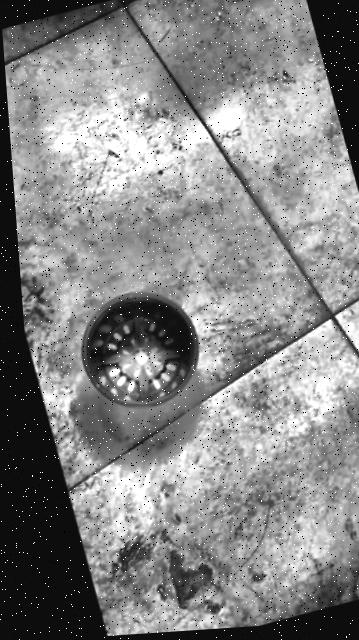pot: (66, 280, 211, 422)
